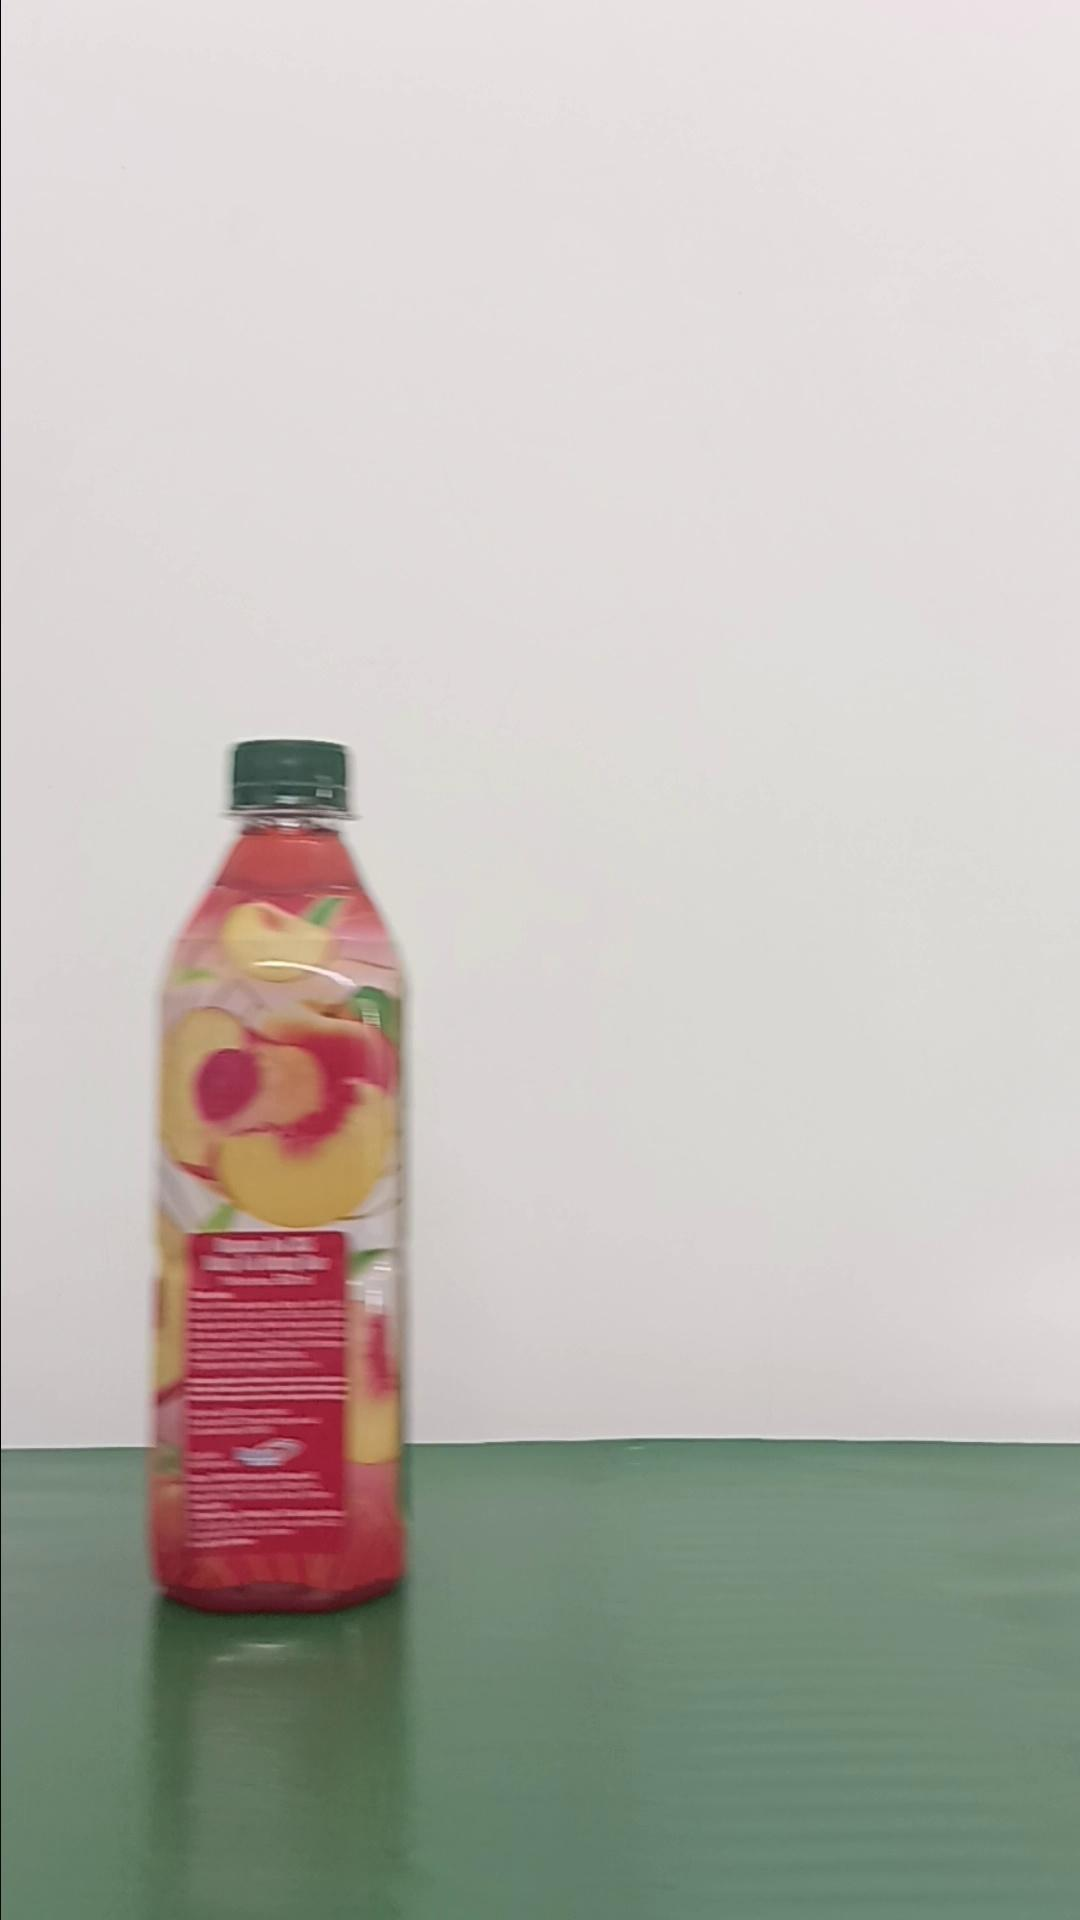khong loi: (144, 736, 411, 1613)
